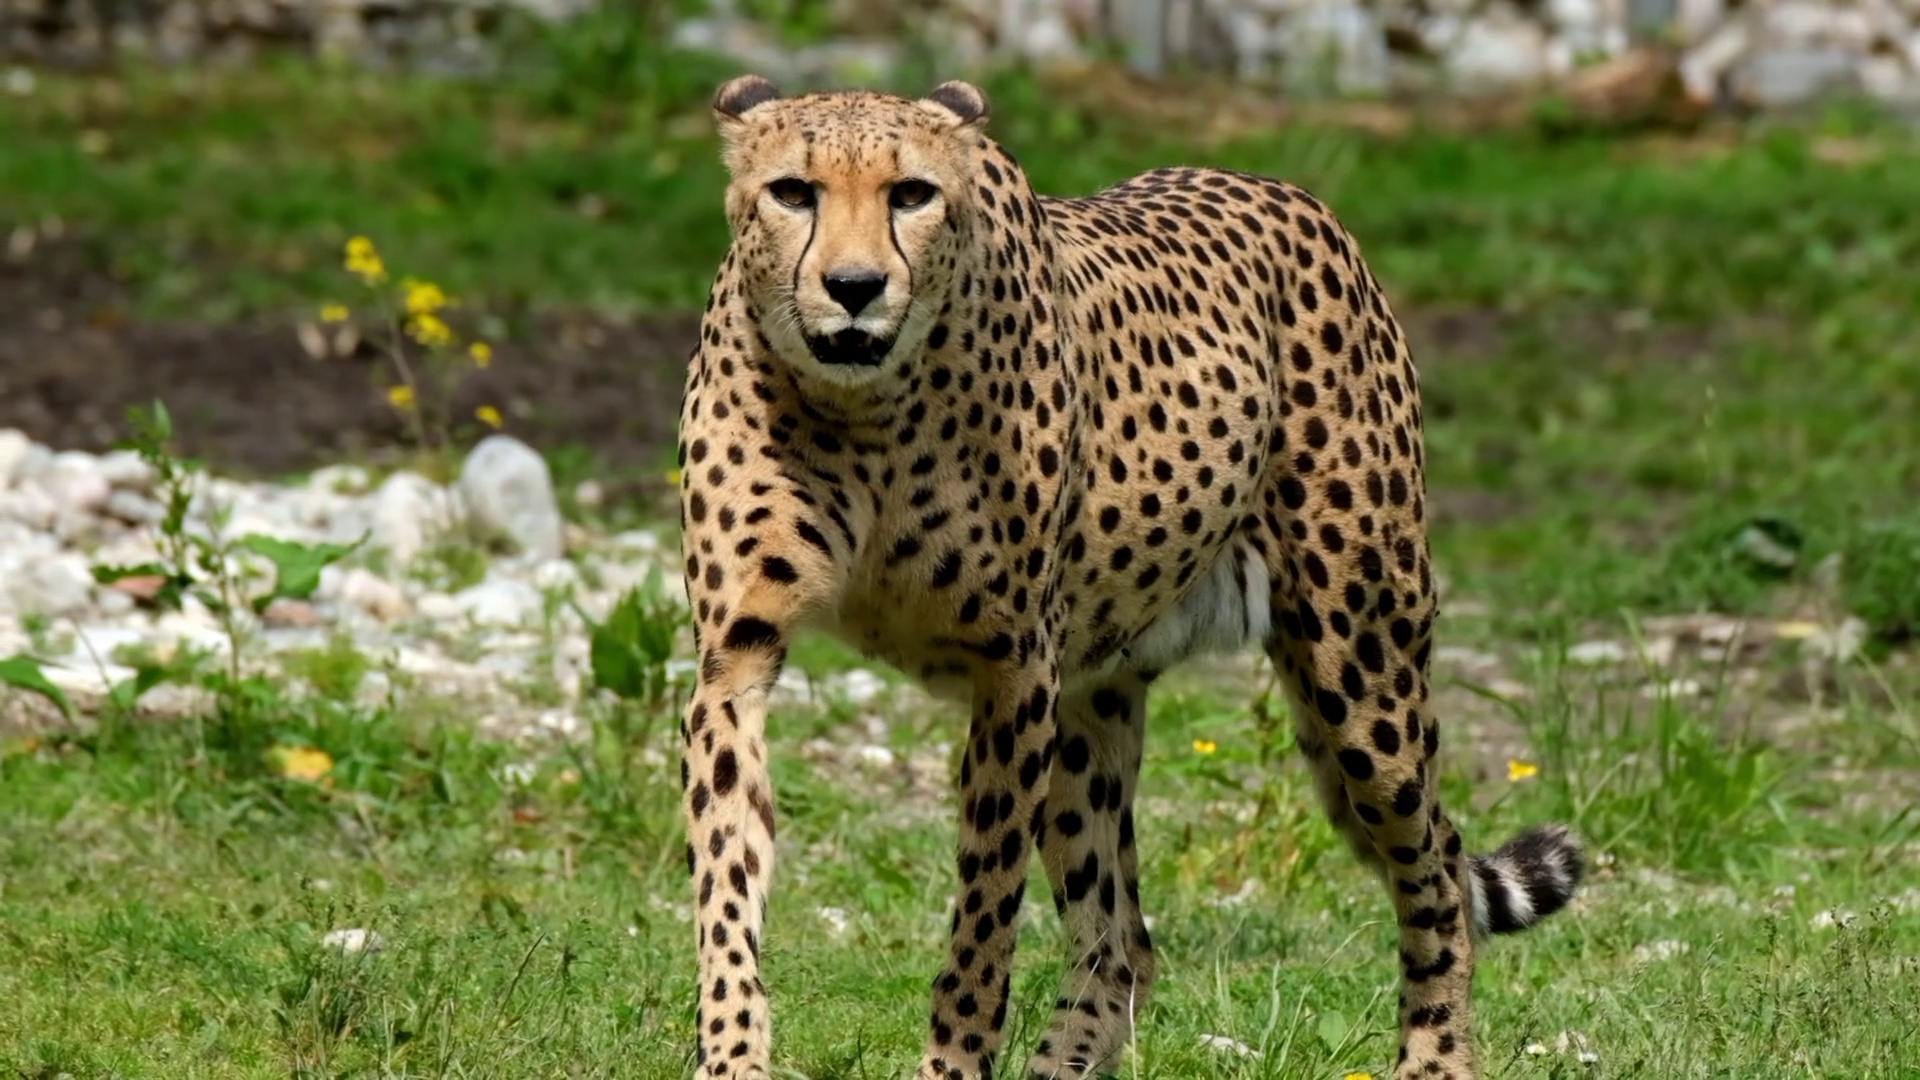Cheetah: (669, 67, 1586, 1080)
